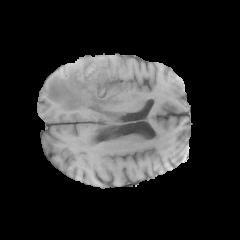glioma: (47, 55, 122, 111)
